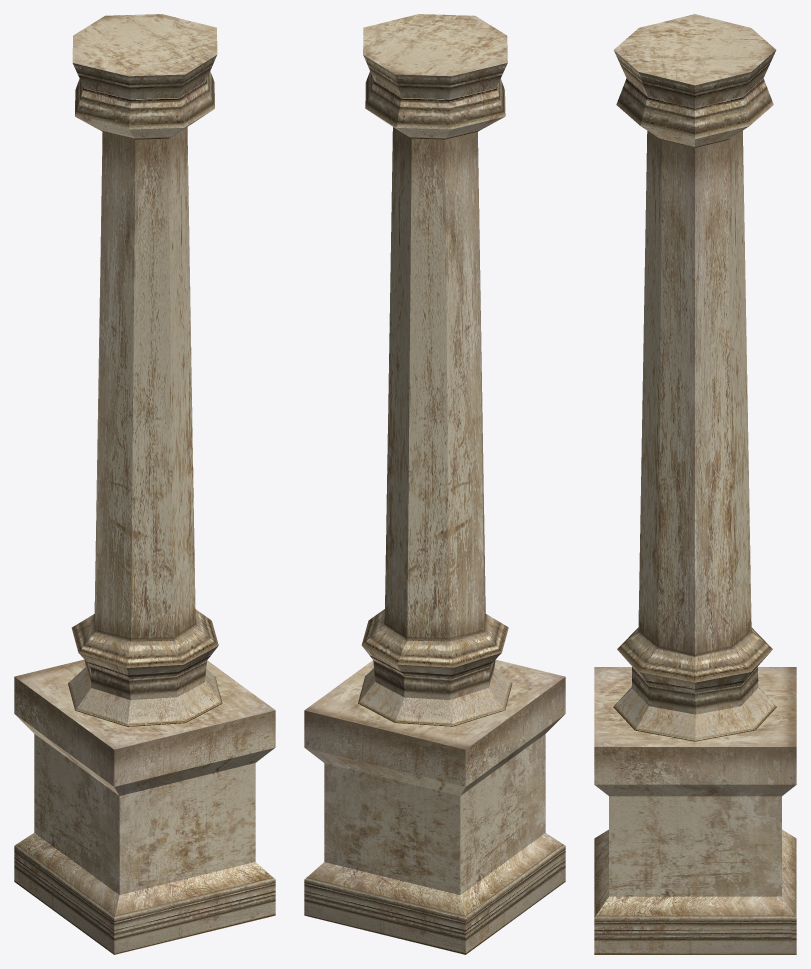
The model's file is svspartapillar3.dae.
3 views of the same model, side by side, from view 1: azimuth 30°, elevation 25°; view 2: azimuth 150°, elevation 25°; view 3: azimuth 270°, elevation 25° (orthographic).
Visible parts, largest first — view 1: cylinder4_sep47-0; view 2: cylinder4_sep47-0; view 3: cylinder4_sep47-0.
Boxes of the visible parts, x1=… form: cylinder4_sep47-0: x1=14, y1=14, x2=275, y2=954; cylinder4_sep47-0: x1=304, y1=14, x2=565, y2=954; cylinder4_sep47-0: x1=594, y1=14, x2=796, y2=954.
Size of the model in its own units: 88.93 by 449 by 95.33.
